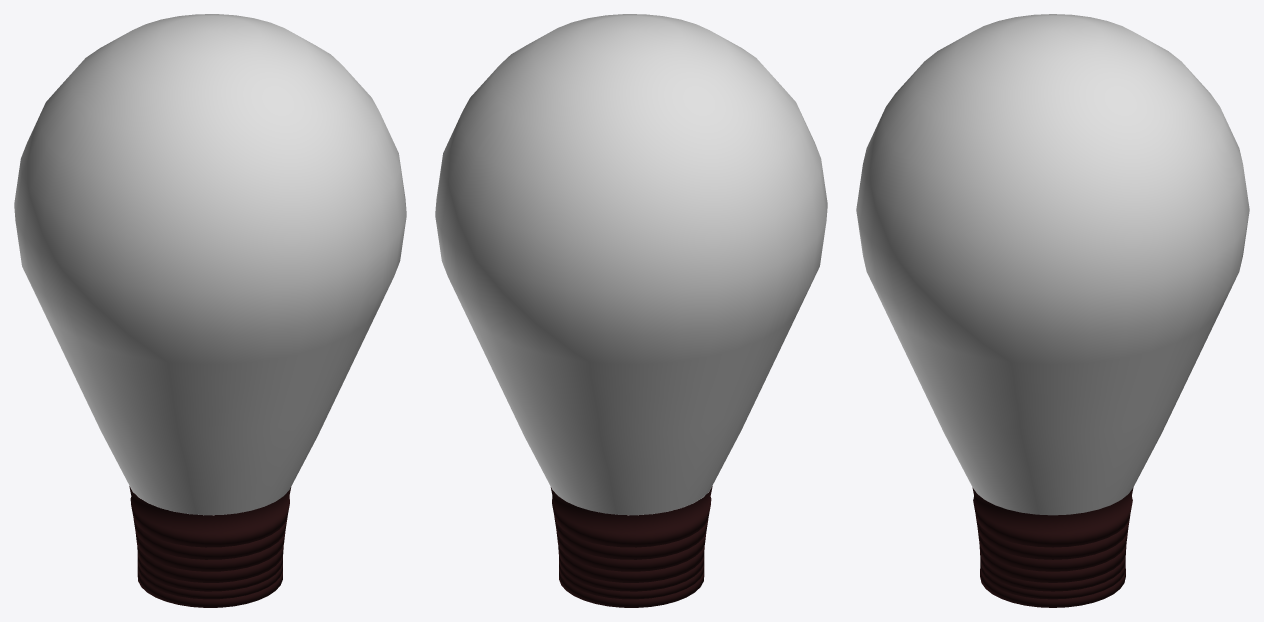
Rendered from bulb-simple.glb.
3 renders of one model, left to right at view 1: azimuth 30°, elevation 25°; view 2: azimuth 150°, elevation 25°; view 3: azimuth 270°, elevation 25°, orthographic.
Visible parts, largest first — view 1: glass-group, metal-group; view 2: glass-group, metal-group; view 3: glass-group, metal-group.
Boxes of the visible parts, x1,y1,x2,y2 form: glass-group: [14, 14, 406, 515]; metal-group: [129, 486, 291, 607]; glass-group: [435, 14, 827, 515]; metal-group: [550, 486, 712, 607]; glass-group: [856, 14, 1249, 515]; metal-group: [972, 487, 1133, 607].
Bounding box in the file's own units: 2 × 3.06 × 2.
